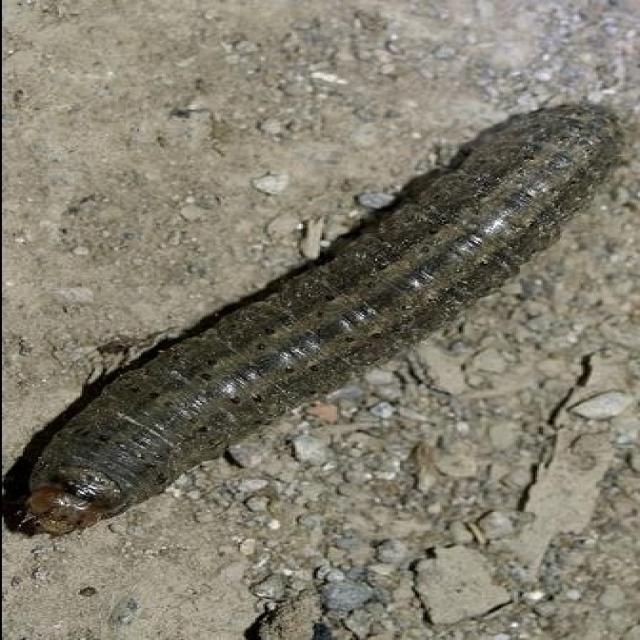black cutworm: (9, 104, 622, 558)
